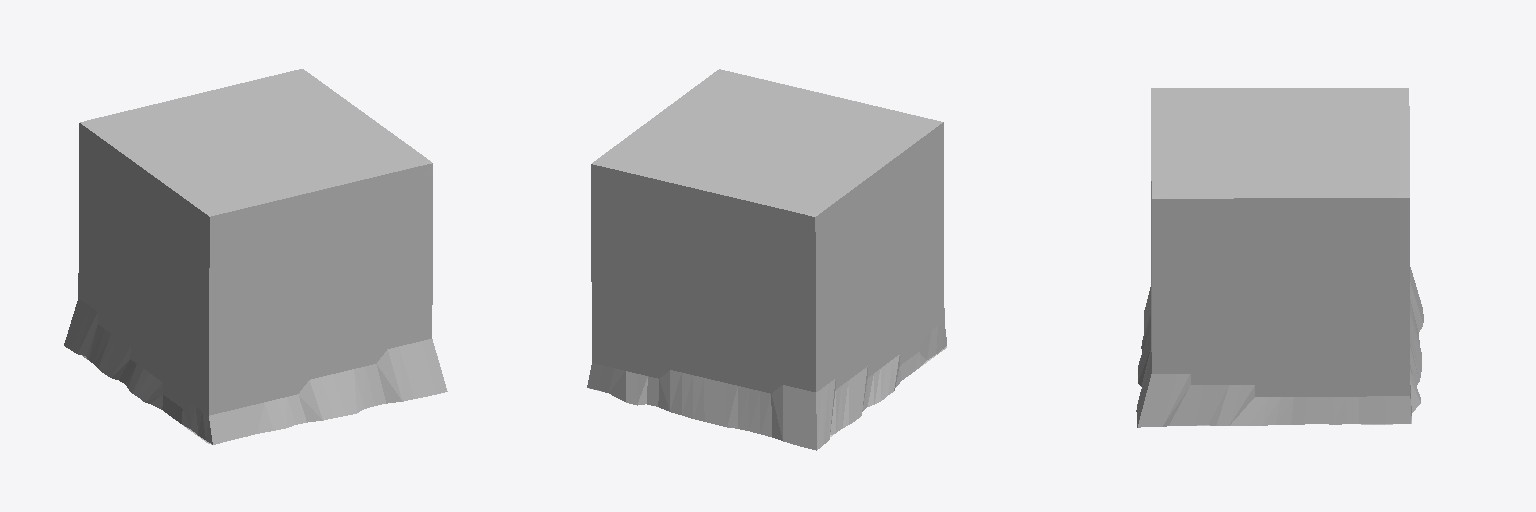
File: mod0213.obj
3 renders of one model, left to right at view 1: azimuth 30°, elevation 25°; view 2: azimuth 150°, elevation 25°; view 3: azimuth 270°, elevation 25°, orthographic.
Parts seen in each view (by area): view 1: Box001; view 2: Box001; view 3: Box001.
Boxes of the visible parts, <box> form: Box001: <box>64,69,447,444</box>; Box001: <box>587,69,946,450</box>; Box001: <box>1136,88,1423,427</box>.
Size of the model in its own units: 0.5799 by 0.5221 by 0.5979.